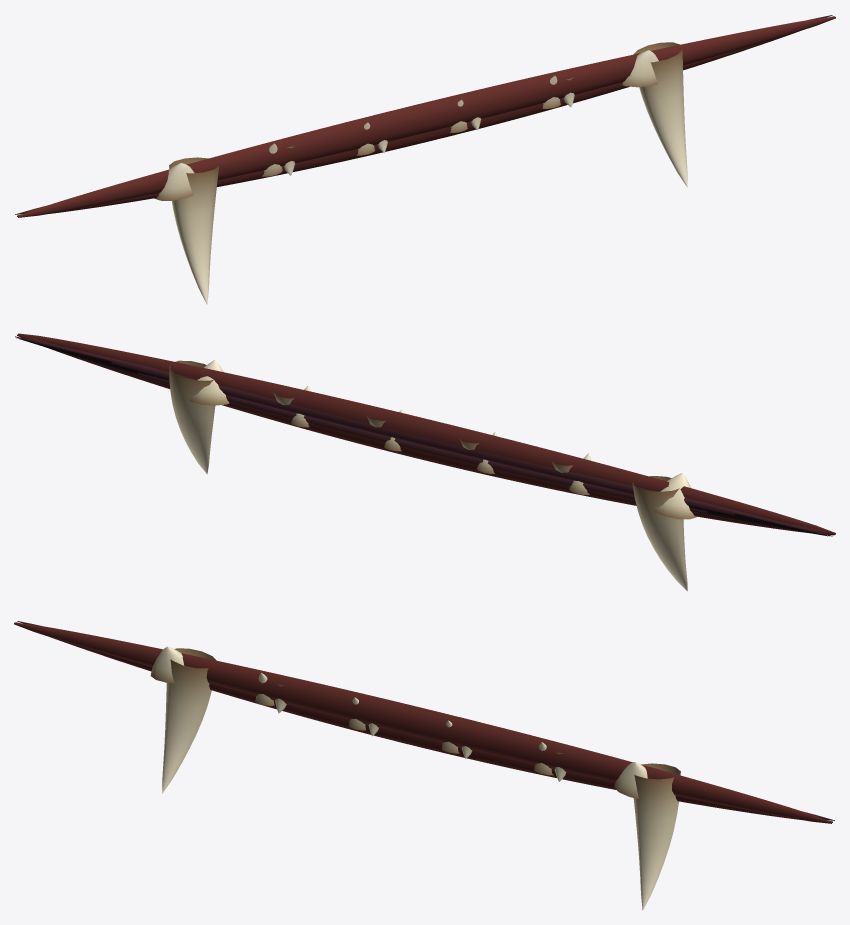
File: GXR_MOUTH_SABER_FANGS.glb
The picture shows the model from 3 angles, top to bottom: view 1: azimuth 30°, elevation 25°; view 2: azimuth 150°, elevation 25°; view 3: azimuth 330°, elevation 25°; orthographic projection.
Visible parts, largest first — view 1: UpperLip, LowerLip, Tooth_0_5, Tooth_0_0, Tooth_1_0, Tooth_1_5; view 2: UpperLip, UpperGum, LowerLip, LowerGum, Tooth_0_0, Tooth_0_5, OralCavity, Tooth_1_0, Tooth_1_5; view 3: UpperLip, Tooth_0_5, Tooth_0_0, LowerLip, Tooth_1_0, Tooth_1_5.
Part boxes in pixels (bbox=[...]): UpperLip: bbox=[18, 16, 835, 217]; LowerLip: bbox=[17, 16, 834, 216]; Tooth_0_5: bbox=[633, 42, 687, 187]; Tooth_0_0: bbox=[169, 157, 219, 304]; Tooth_1_0: bbox=[154, 163, 194, 200]; Tooth_1_5: bbox=[622, 50, 658, 87]; UpperLip: bbox=[18, 333, 835, 534]; UpperGum: bbox=[15, 336, 832, 536]; LowerLip: bbox=[17, 334, 834, 535]; LowerGum: bbox=[17, 337, 828, 535]; Tooth_0_0: bbox=[632, 476, 687, 591]; Tooth_0_5: bbox=[169, 360, 215, 473]; OralCavity: bbox=[16, 338, 829, 536]; Tooth_1_0: bbox=[654, 473, 697, 519]; Tooth_1_5: bbox=[190, 360, 229, 405]; UpperLip: bbox=[14, 622, 831, 823]; Tooth_0_5: bbox=[633, 763, 680, 910]; Tooth_0_0: bbox=[162, 648, 216, 793]; LowerLip: bbox=[15, 622, 832, 822]; Tooth_1_0: bbox=[150, 646, 184, 683]; Tooth_1_5: bbox=[614, 762, 647, 798].
Bounding box in the file's own units: 0.4506 × 0.0698 × 0.0297.
